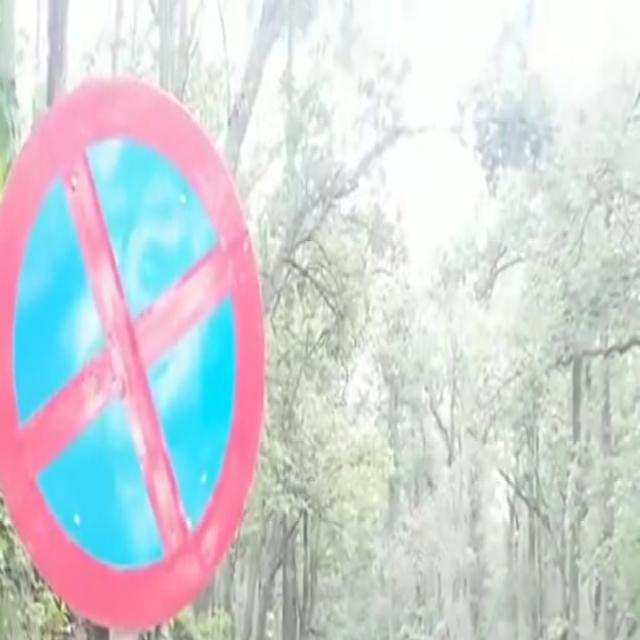no stopping or standing: (7, 70, 269, 624)
